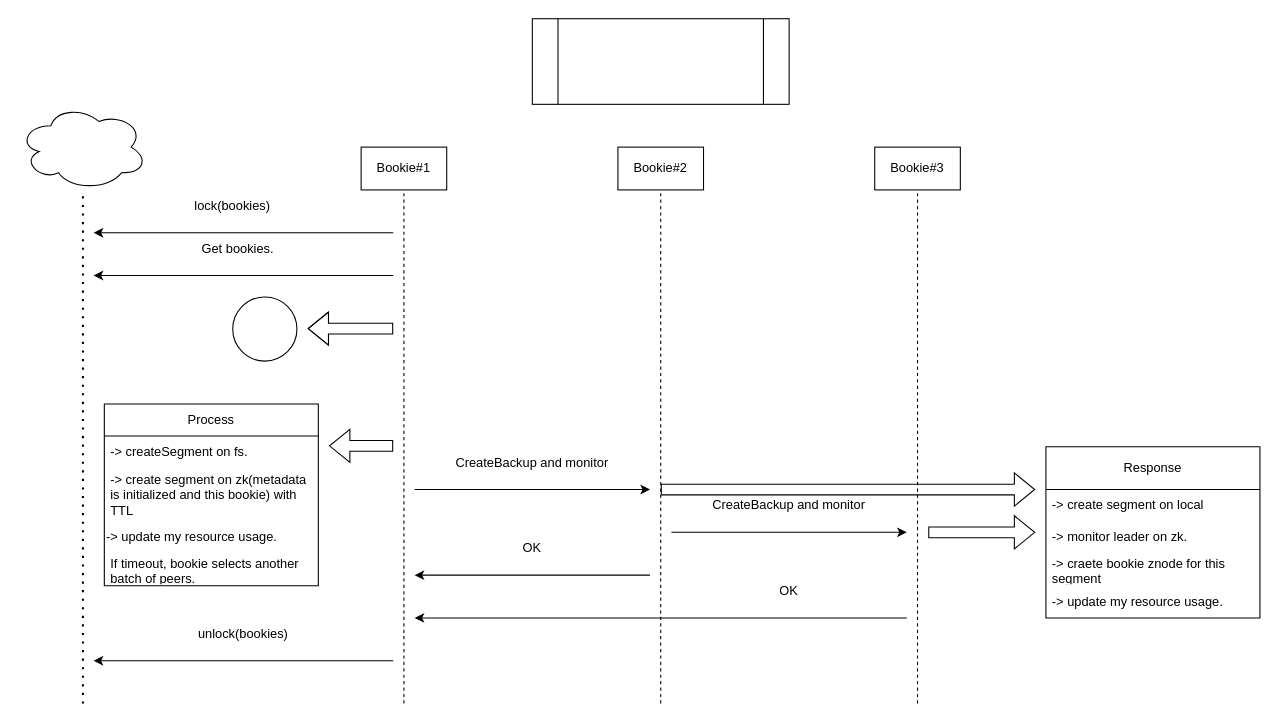
This 1279x724 diagram has some shape labels left out. Each missing label, with the centre of its shape:
CreatePrimarySegment: point 660,61
Select followers: point 264,328
ZK: point 82,146
